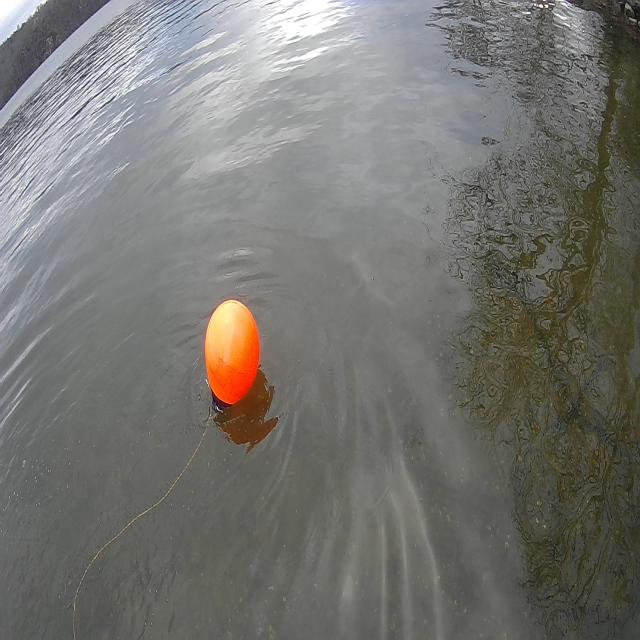Buoy: (200, 288, 264, 427)
